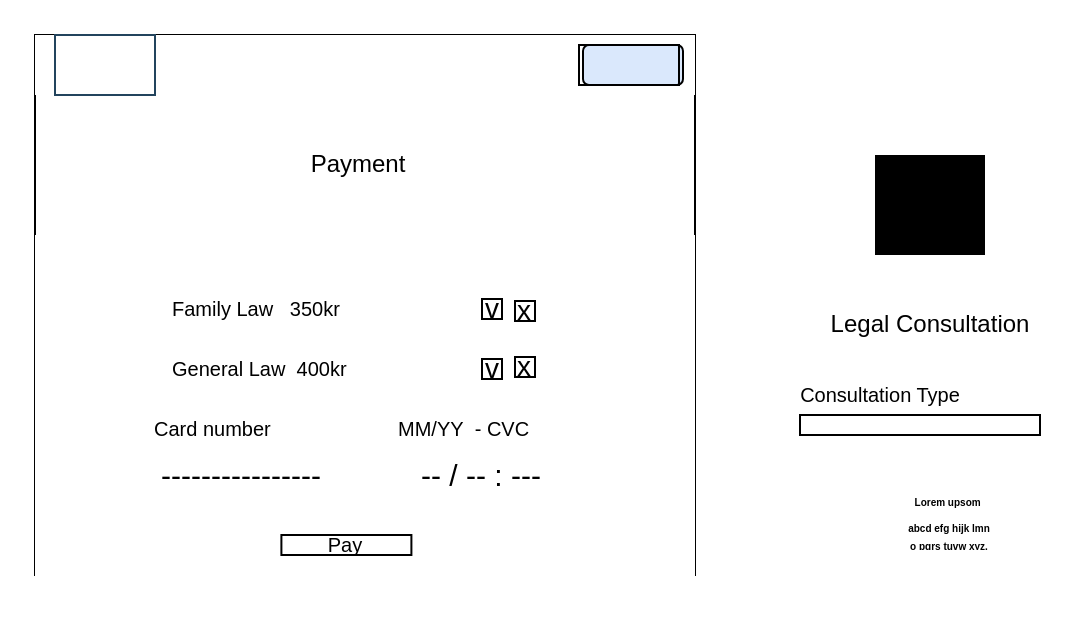
Image size: 1076x630. Some labels were removed from this diagram. The shapes that lost their labels are listed below. From the top down, each one's box as (x1, y1, x2, y2) in pixels, then its label:
(53, 33, 155, 95): Logo
(577, 43, 679, 85): Logout
